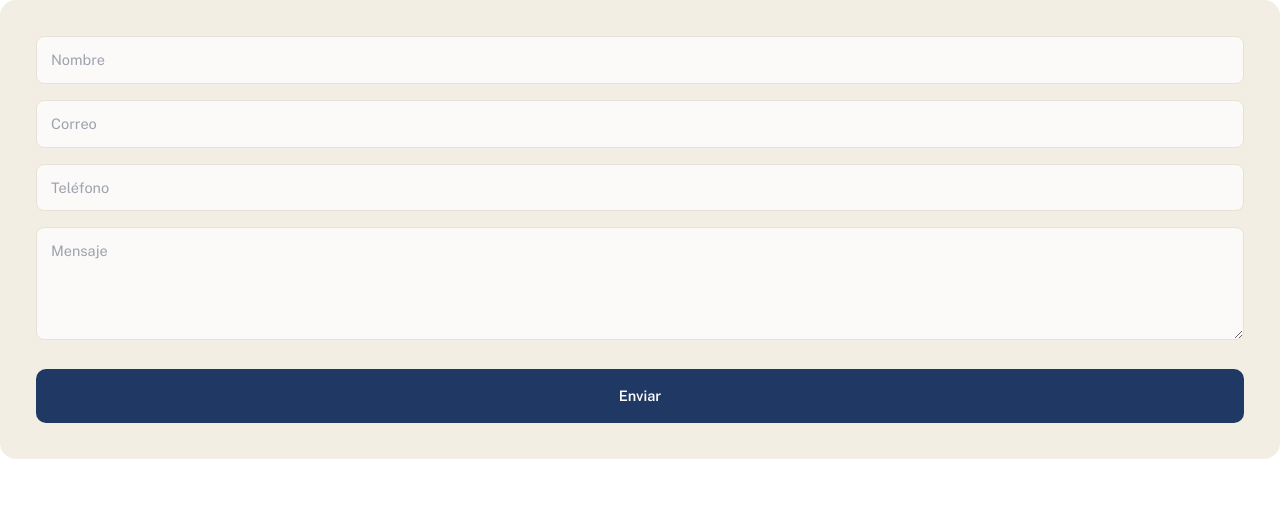
Test: ContactForm › shows a generic error message when the request fails
The width and height of the screenshot is (1280, 512).
Type "Juan Pérez" into the field with placeholder "Nombre" at [640, 60], box [36,36,1244,84]
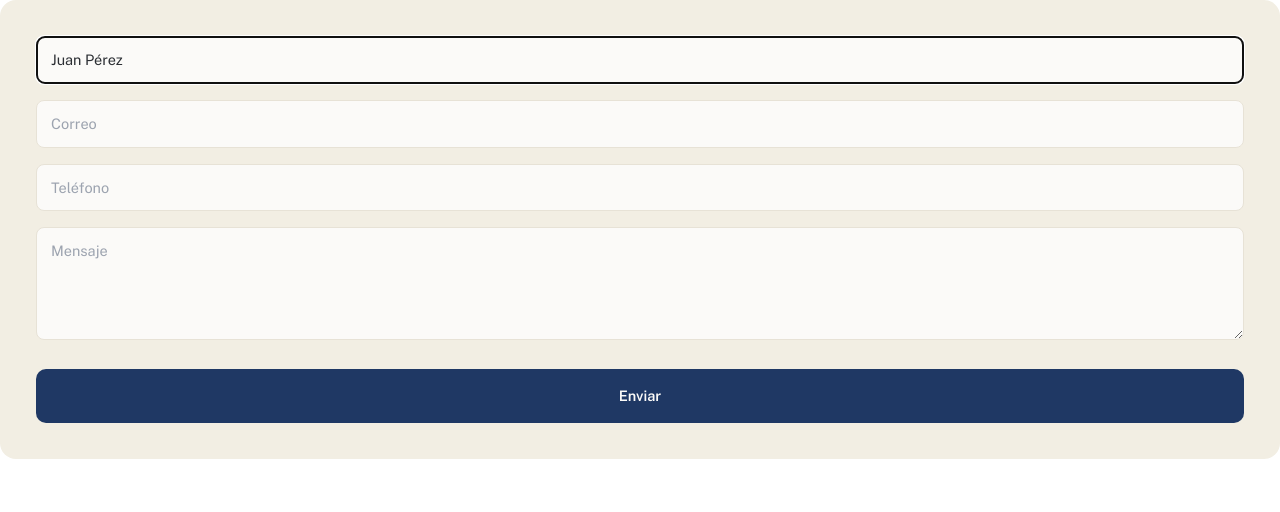
Type "juan@example.com" into the field with placeholder "Correo" at [640, 124], box [36,100,1244,148]
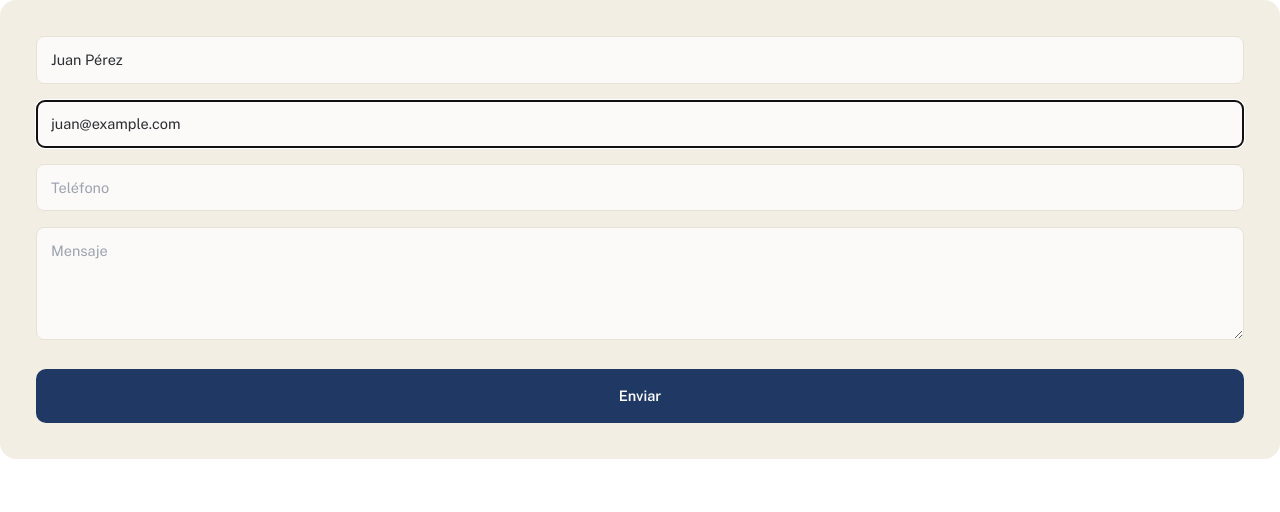
Type "Necesito ayuda con mi visado." into the text box with placeholder "Mensaje" at [640, 284], box [36,227,1244,340]
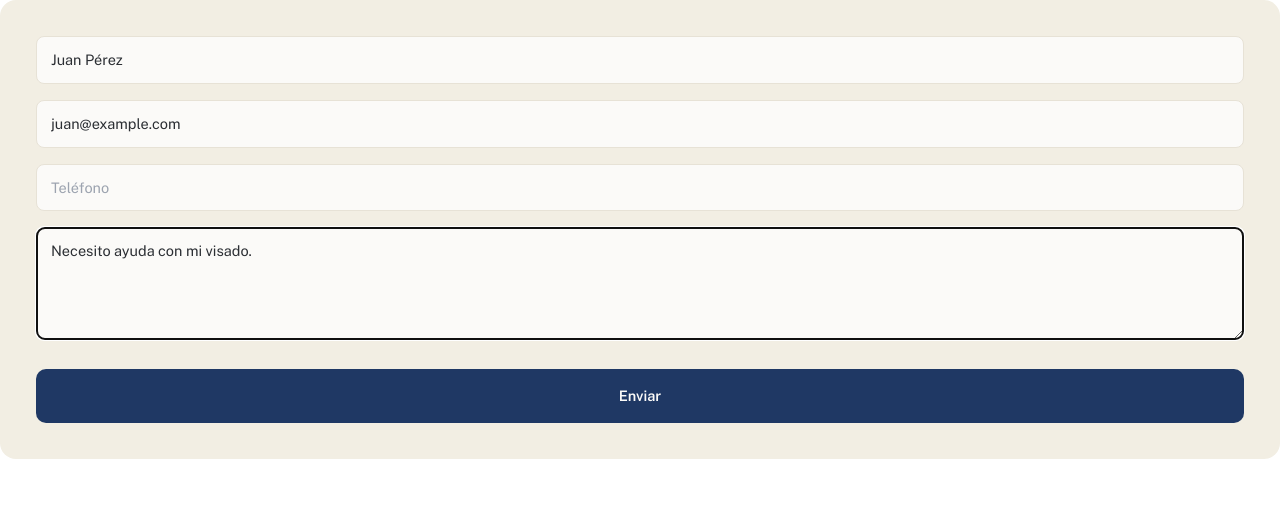
Click the button "Enviar" at [640, 396], box [36,369,1244,423]
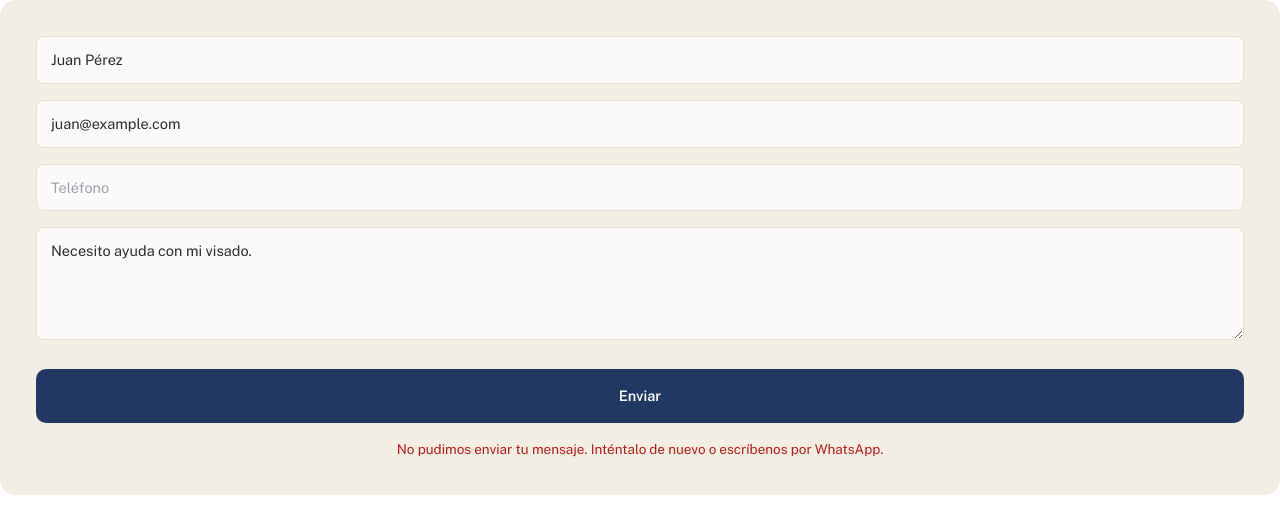
Check: the text "No pudimos enviar tu mensaje. Inténtalo de nuevo o escríbenos por WhatsApp." is shown, box [397,441,883,457]
